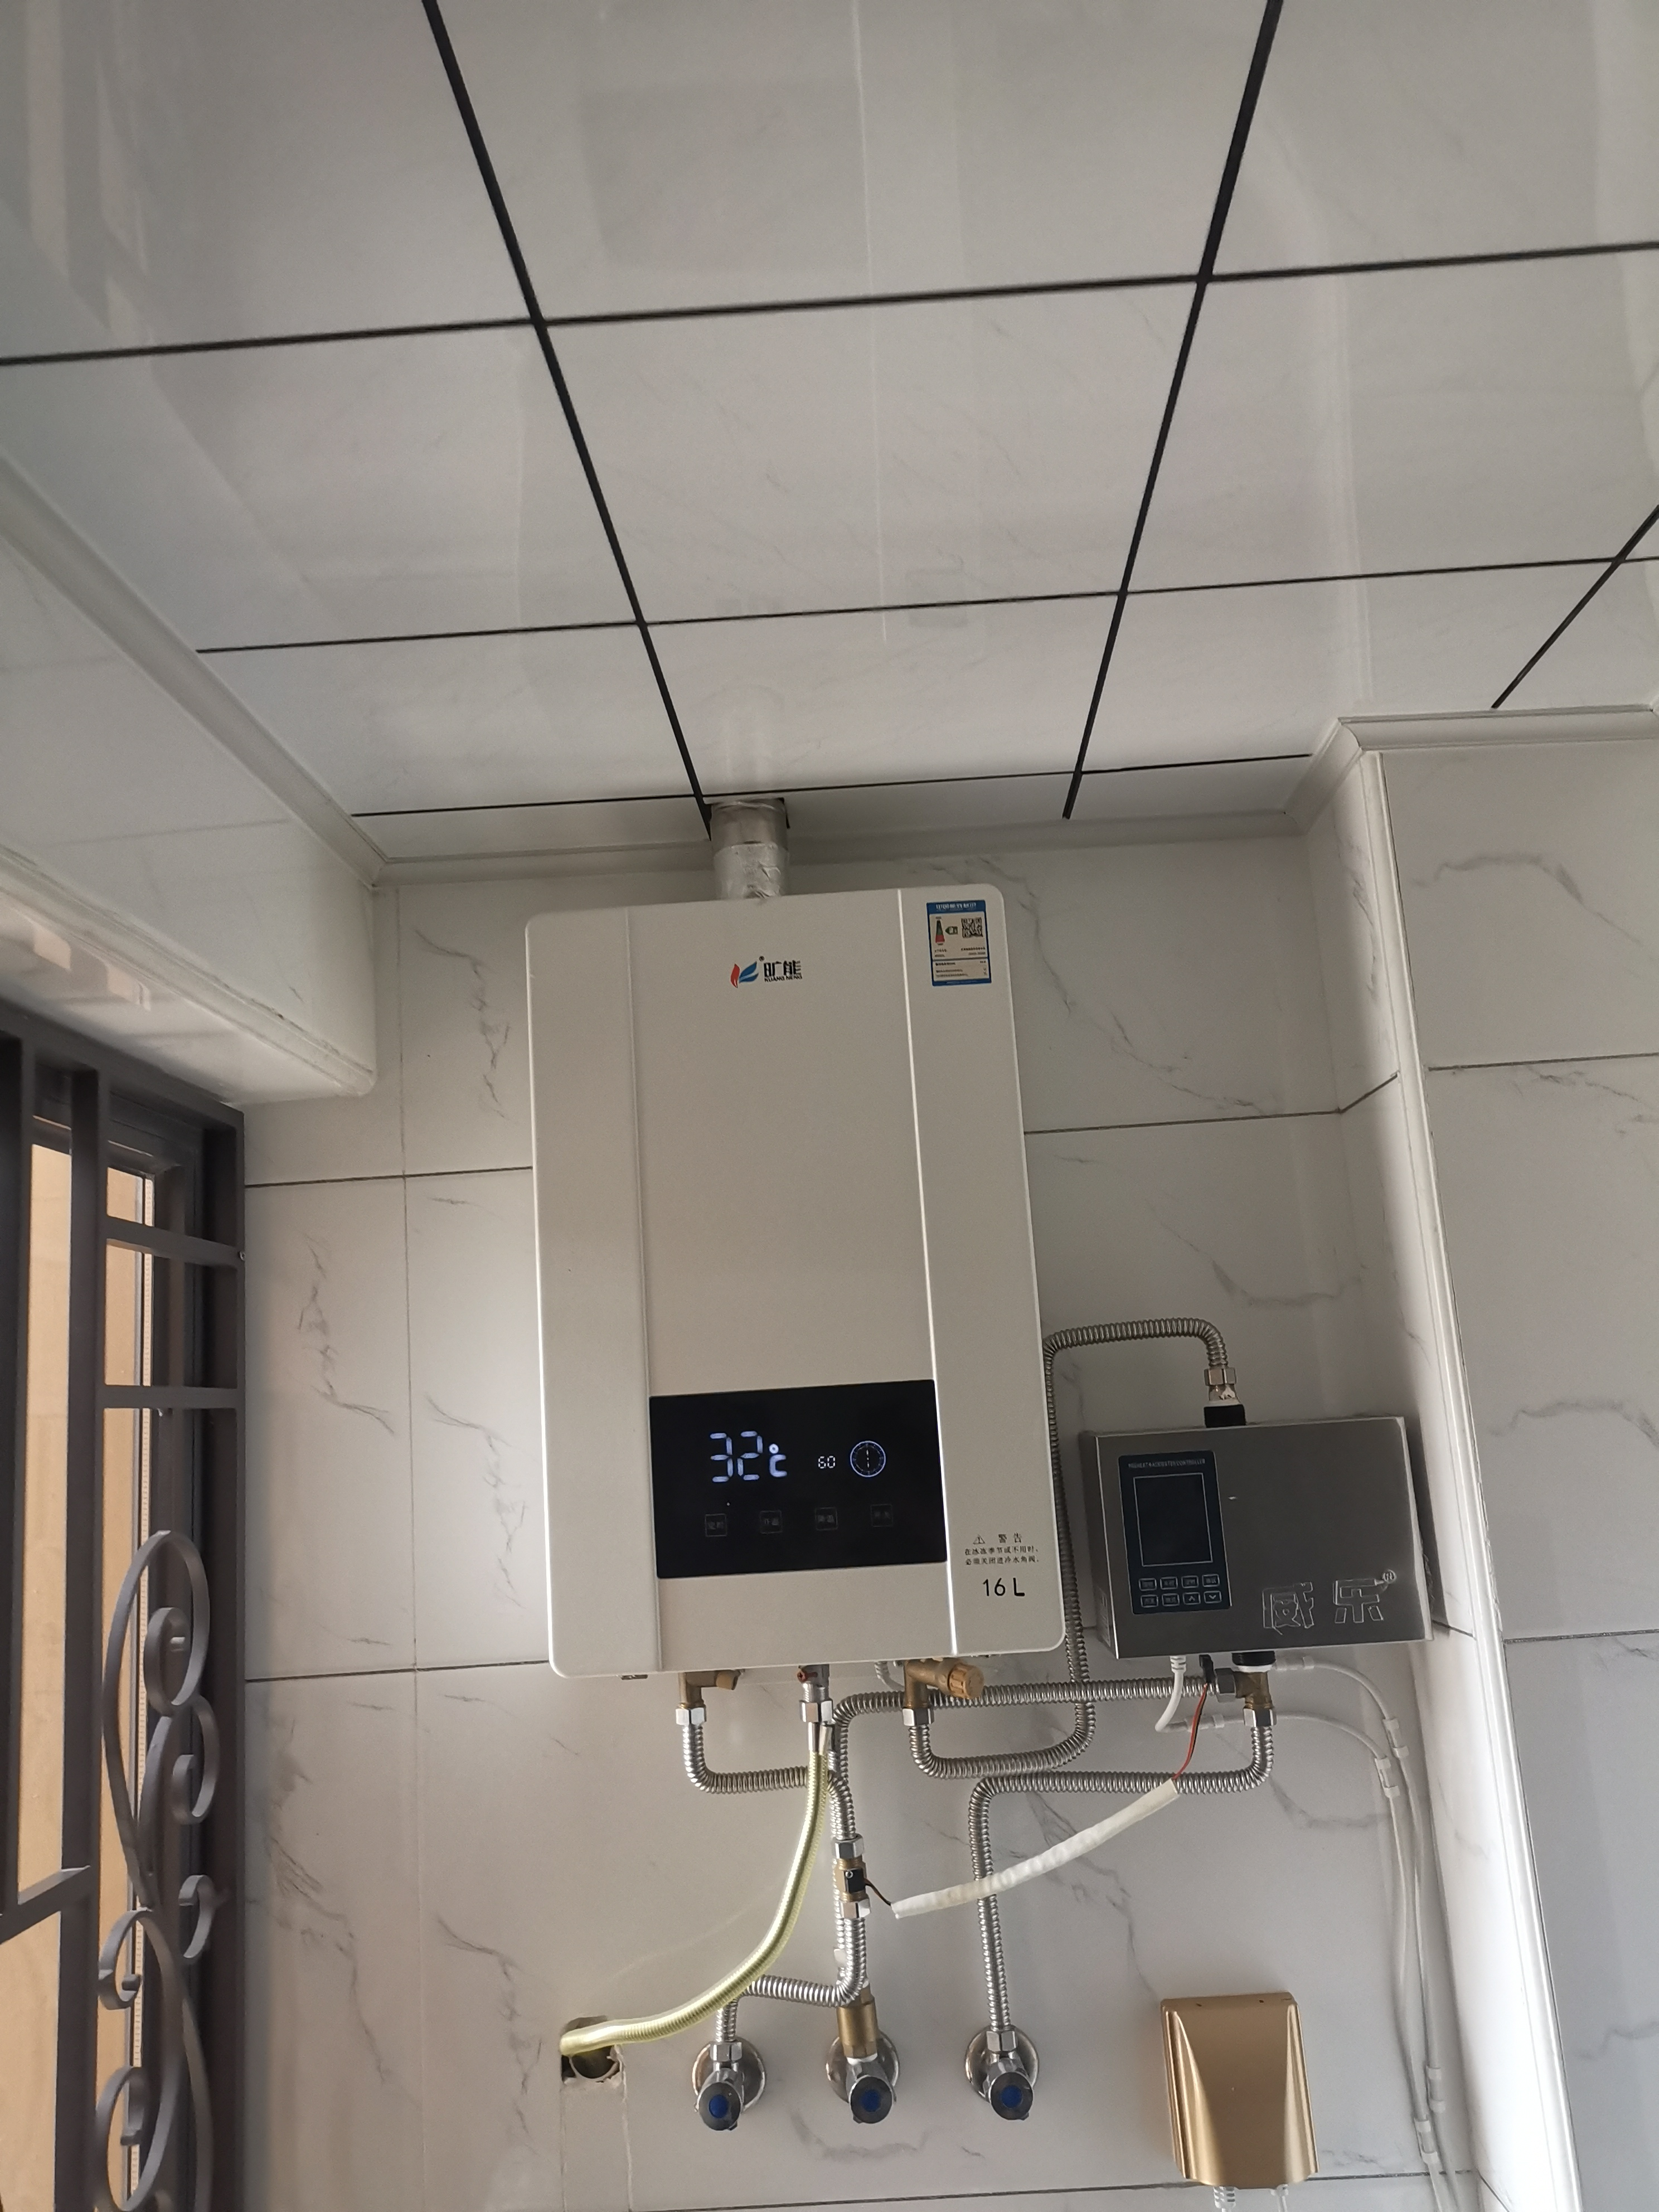loudou: (711, 951, 828, 1000)
